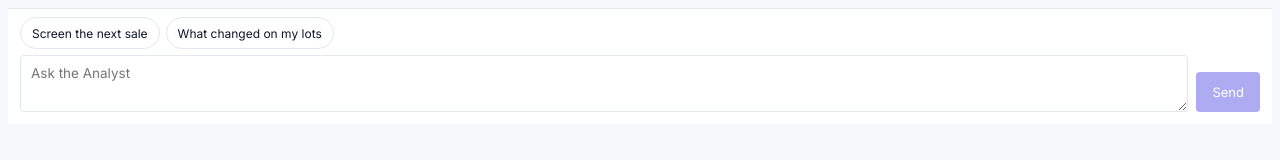
Test case: AnalystComposer › shortcuts insert text and send nothing on their own
The image size is (1280, 160).
Click the button with test id "composer-shortcut" showing "Screen the next sale".
click(90, 33)  # box x1=20 y1=17 x2=160 y2=49
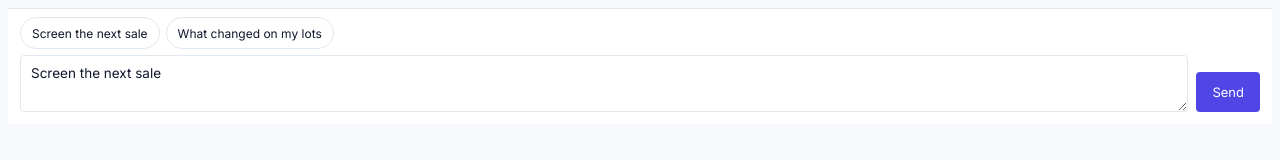
Expected: the text box with test id "composer-input" holds "Screen the next sale", x1=20 y1=55 x2=1188 y2=112
